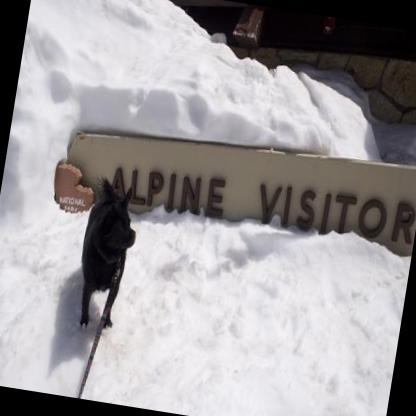schipperke: (66, 168, 144, 336)
